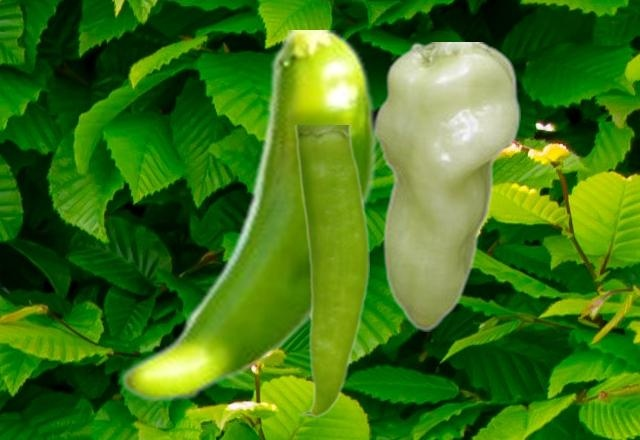green_chili: (119, 30, 377, 402), (376, 42, 519, 330), (293, 125, 368, 417)
